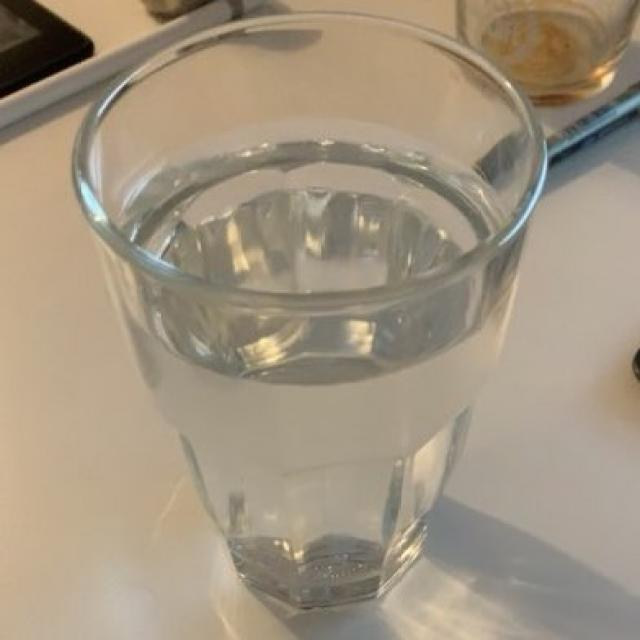water: (106, 133, 513, 578)
